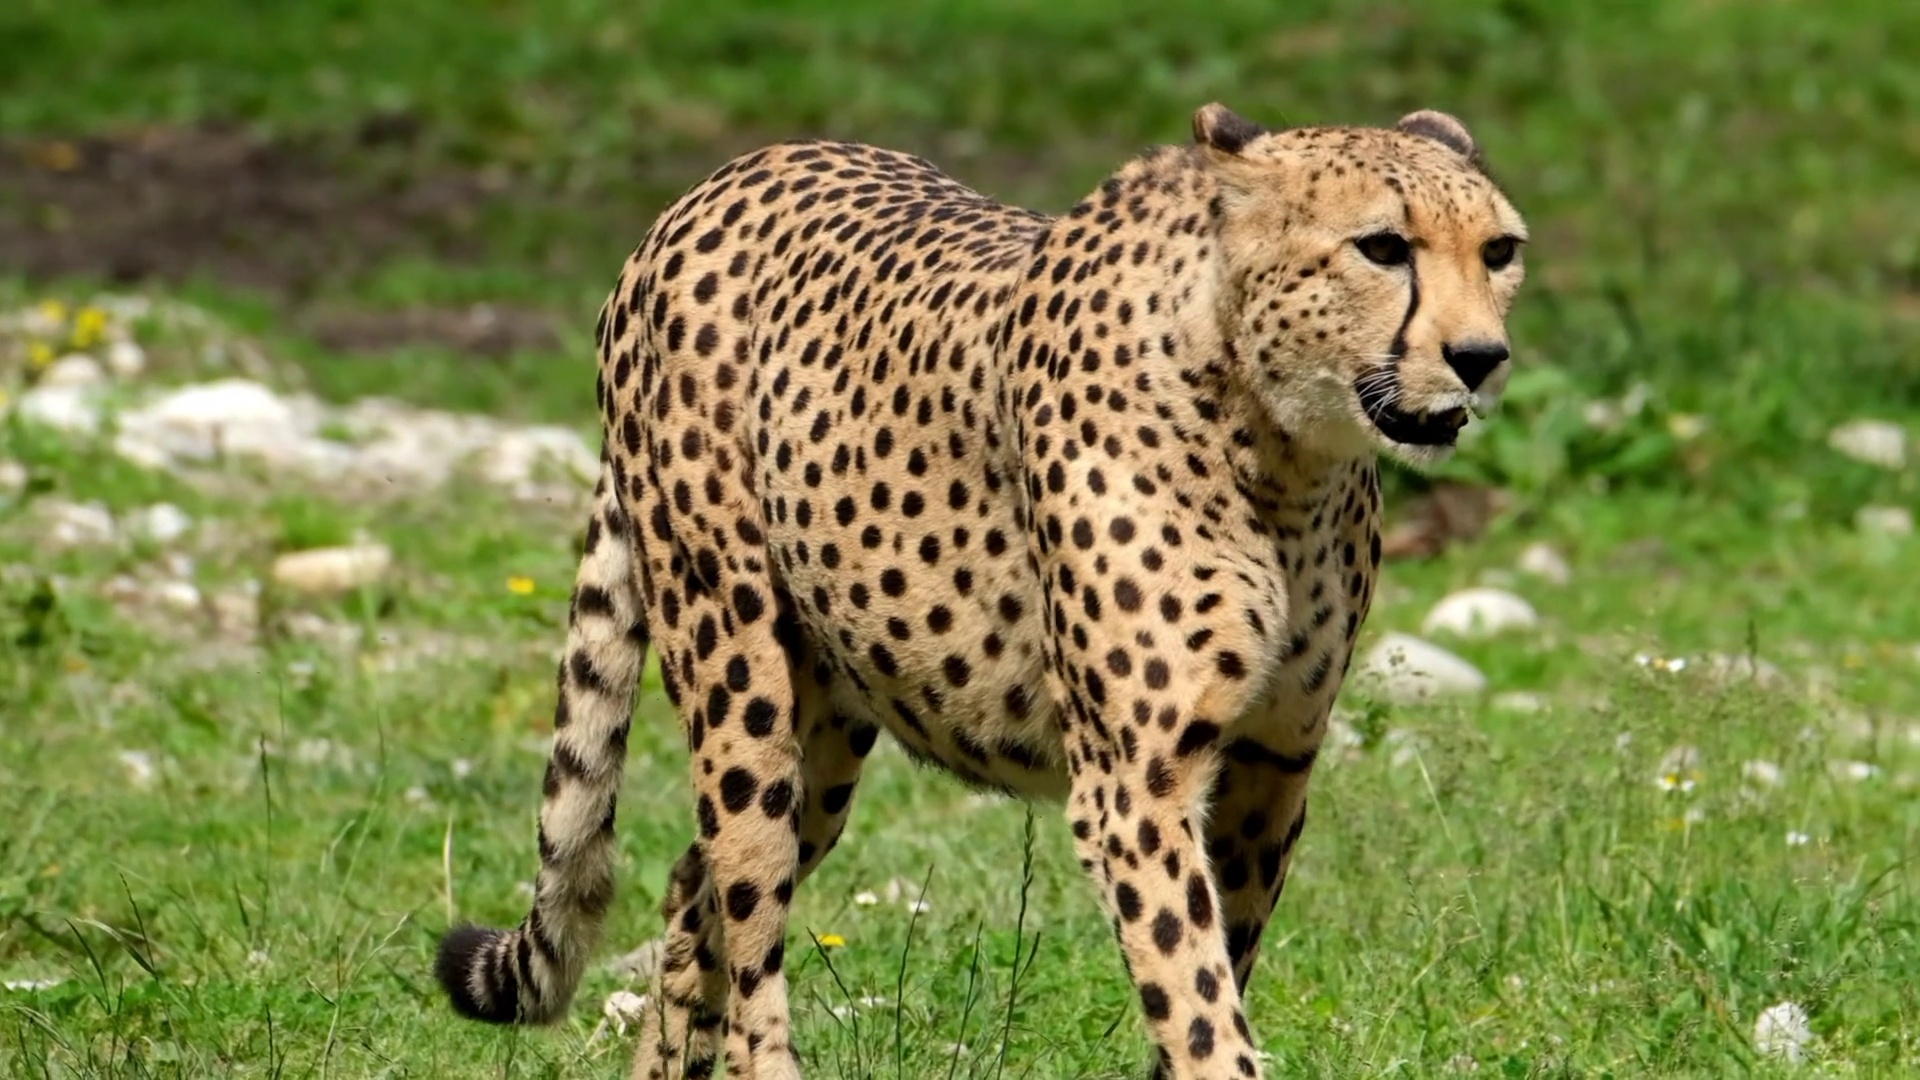Cheetah: (436, 96, 1535, 1080)
